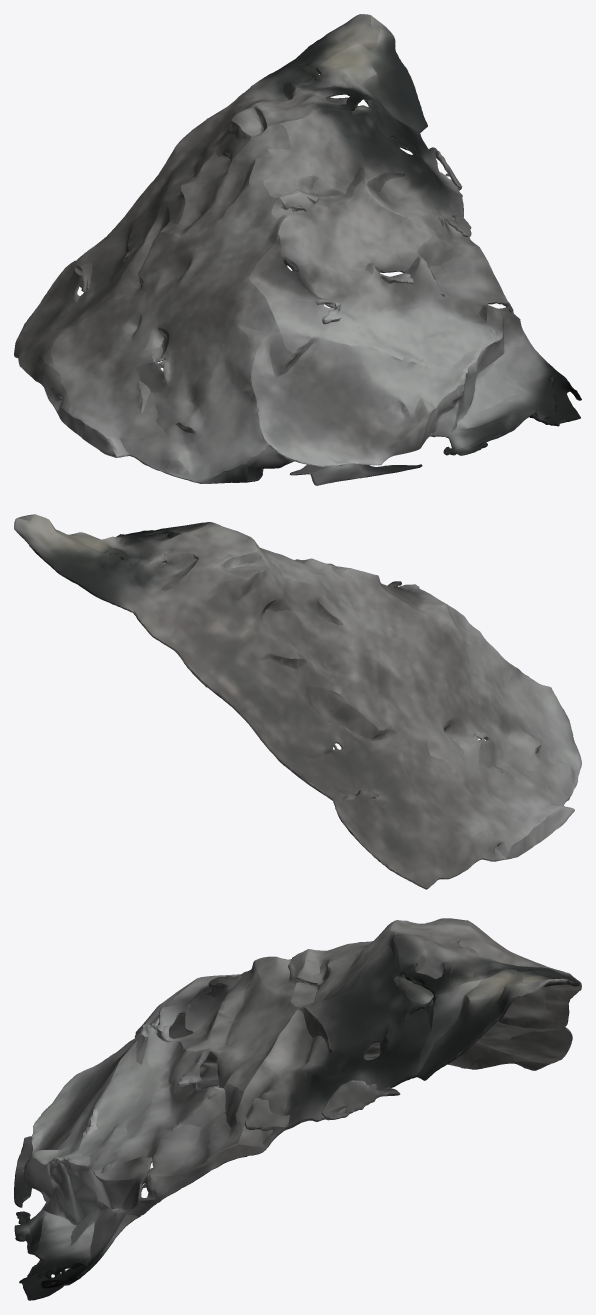
The picture shows the model from 3 angles, top to bottom: view 1: azimuth 30°, elevation 25°; view 2: azimuth 150°, elevation 25°; view 3: azimuth 270°, elevation 25°; orthographic projection. The views are drawn at different scales.
Visible parts, largest first — view 1: world; view 2: world; view 3: world.
Boxes of the visible parts, box(x1,y1,x2,y2) form: world: box(14, 14, 581, 485); world: box(14, 514, 581, 889); world: box(14, 918, 581, 1300).
Bounding box in the file's own units: 0.12 × 0.078 × 0.12.
Materials: 1 (1 with a texture image).
